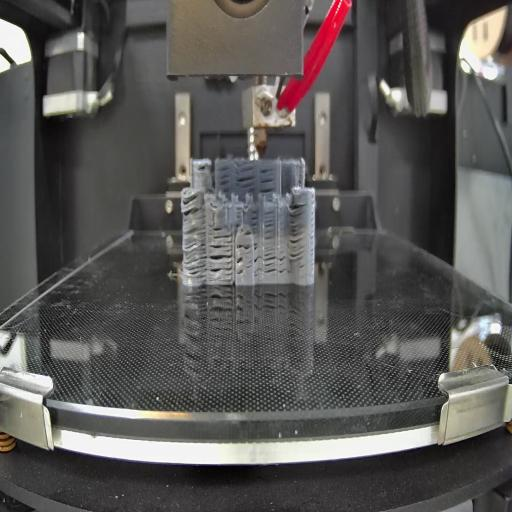cracks: (184, 225, 205, 278), (290, 202, 306, 262), (209, 244, 234, 280), (264, 248, 288, 275), (181, 194, 203, 218), (258, 165, 276, 192), (238, 168, 256, 193), (263, 210, 276, 240), (218, 166, 232, 192), (213, 223, 233, 240), (254, 242, 261, 278), (233, 207, 244, 229), (248, 209, 260, 228), (195, 162, 210, 176), (236, 242, 253, 252), (237, 257, 244, 277), (243, 229, 253, 237)
